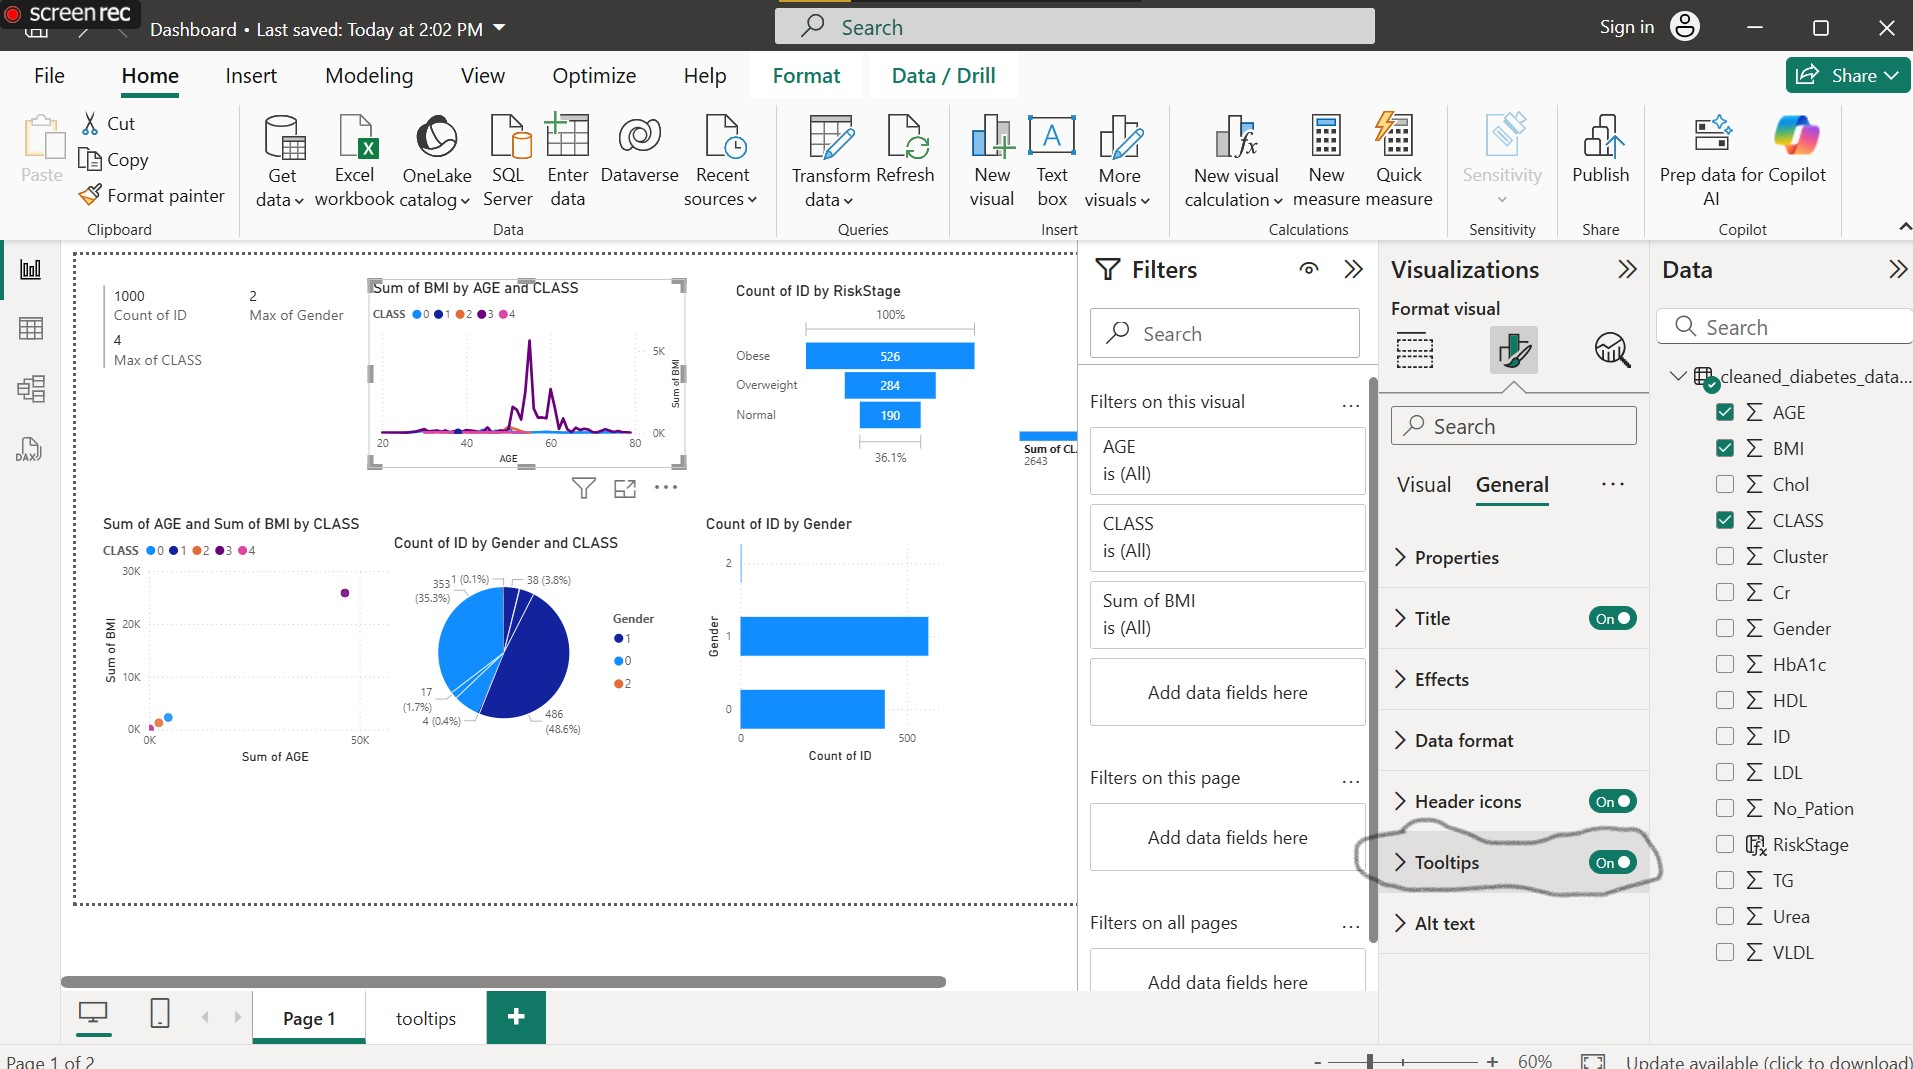

Layout of this report page (visuals, bound fields, positions):
{"tool":"powerbi","page":{"name":"Page 1","canvas":[1280,720],"ordinal":0},"visuals":[{"type":"barChart","fields":{"Category":["cleaned_diabetes_dataset.Gender"],"Y":["CountNonNull(cleaned_diabetes_dataset.ID)"]},"box":[897.6,309.9,279.7,279.7],"z":0},{"type":"scatterChart","fields":{"X":["Sum(cleaned_diabetes_dataset.AGE)"],"Y":["Sum(cleaned_diabetes_dataset.BMI)"],"Series":["cleaned_diabetes_dataset.CLASS"]},"box":[24.6,289.1,351.5,281.6],"z":1000},{"type":"multiRowCard","fields":{"Values":["CountNonNull(cleaned_diabetes_dataset.ID)","Max(cleaned_diabetes_dataset.Gender)","Max(cleaned_diabetes_dataset.CLASS)"]},"box":[24.6,28.3,323.2,209.8],"z":2000},{"type":"pieChart","fields":{"Category":["cleaned_diabetes_dataset.Gender"],"Y":["CountNonNull(cleaned_diabetes_dataset.ID)"],"Series":["cleaned_diabetes_dataset.CLASS"]},"box":[480,326.9,319.4,243.8],"z":3000},{"type":"lineChart","fields":{"Category":["cleaned_diabetes_dataset.AGE"],"Y2":["Sum(cleaned_diabetes_dataset.BMI)"],"Series":["cleaned_diabetes_dataset.CLASS"]},"box":[447.9,28.3,351.5,209.8],"z":4000},{"type":"funnel","fields":{"Category":["cleaned_diabetes_dataset.RiskStage"],"Y":["CountNonNull(cleaned_diabetes_dataset.ID)"]},"box":[898,28,280,210],"z":4001}]}

Visuals, with their boxes on the page's 1280x720 design canvas (x1, y1, x2, y2). These are canvas units, not pixel positions in the 1913x1069 screenshot, which may show the page scaled, cropped or inside an application window:
barChart - cleaned_diabetes_dataset.Gender x CountNonNull(cleaned_diabetes_dataset.ID): select_region(898, 310, 1177, 590)
scatterChart - Sum(cleaned_diabetes_dataset.AGE) x Sum(cleaned_diabetes_dataset.BMI): select_region(25, 289, 376, 571)
multiRowCard - CountNonNull(cleaned_diabetes_dataset.ID) x Max(cleaned_diabetes_dataset.Gender): select_region(25, 28, 348, 238)
pieChart - cleaned_diabetes_dataset.Gender x CountNonNull(cleaned_diabetes_dataset.ID): select_region(480, 327, 799, 571)
lineChart - cleaned_diabetes_dataset.AGE x Sum(cleaned_diabetes_dataset.BMI): select_region(448, 28, 799, 238)
funnel - cleaned_diabetes_dataset.RiskStage x CountNonNull(cleaned_diabetes_dataset.ID): select_region(898, 28, 1178, 238)
